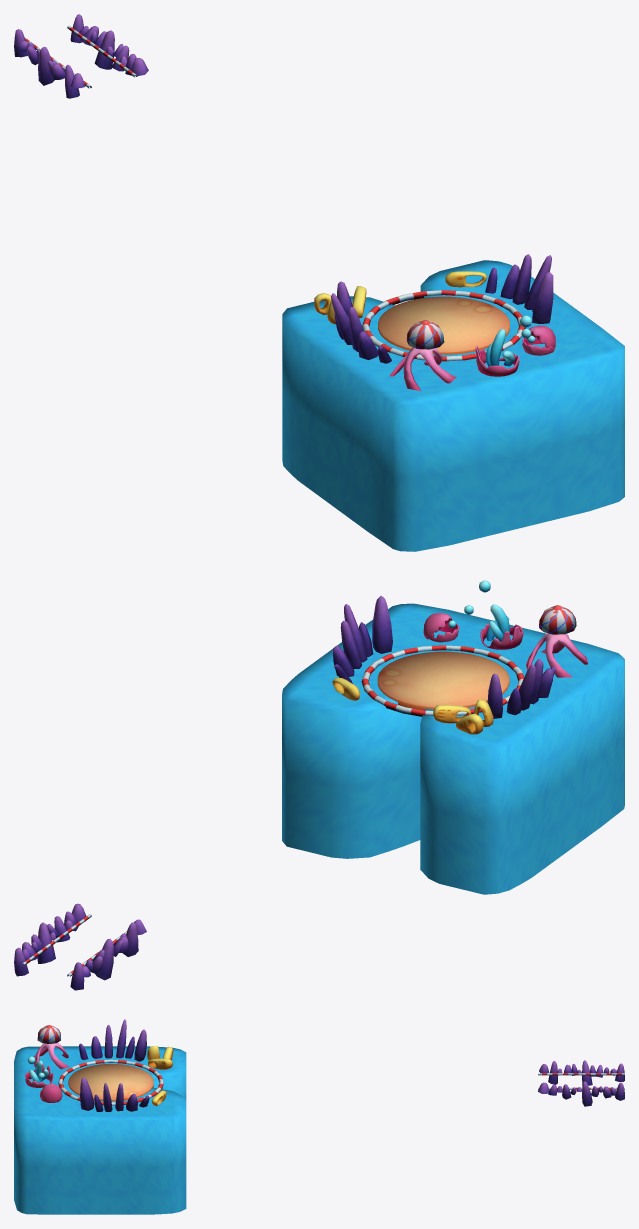
Rendered from Water.FBX.
3 views of the same model, one above another, from view 1: azimuth 30°, elevation 25°; view 2: azimuth 150°, elevation 25°; view 3: azimuth 270°, elevation 25° (orthographic). The views are drawn at different scales.
Parts seen in each view (by area): view 1: Water_Landscape, Water_Fence_L, Water_Fence_R; view 2: Water_Landscape, Water_Fence_L, Water_Fence_R; view 3: Water_Landscape, Water_Fence_R, Water_Fence_L.
Part boxes in pixels (left/top/right/bottom): Water_Landscape: left=282, top=254, right=624, bottom=551; Water_Fence_L: left=67, top=14, right=148, bottom=77; Water_Fence_R: left=14, top=29, right=91, bottom=98; Water_Landscape: left=282, top=580, right=624, bottom=894; Water_Fence_L: left=14, top=903, right=91, bottom=976; Water_Fence_R: left=67, top=919, right=146, bottom=990; Water_Landscape: left=14, top=1019, right=186, bottom=1214; Water_Fence_R: left=538, top=1060, right=624, bottom=1085; Water_Fence_L: left=538, top=1081, right=624, bottom=1106.
Size of the model in its own units: 36.84 by 30.54 by 129.
1 material, 1 textured.
